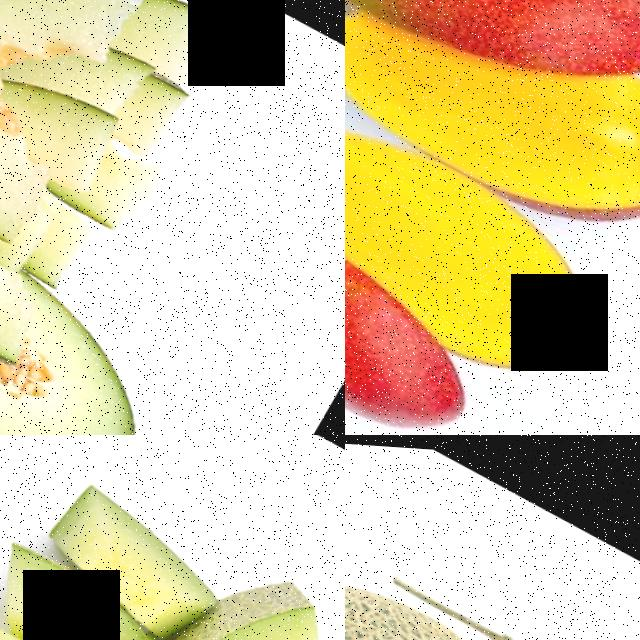mango: (345, 79, 640, 377), (345, 0, 640, 265), (345, 171, 531, 435), (345, 0, 640, 148)
melon: (345, 472, 640, 640), (0, 0, 137, 233), (0, 261, 168, 435), (0, 161, 81, 366), (179, 544, 345, 640)
